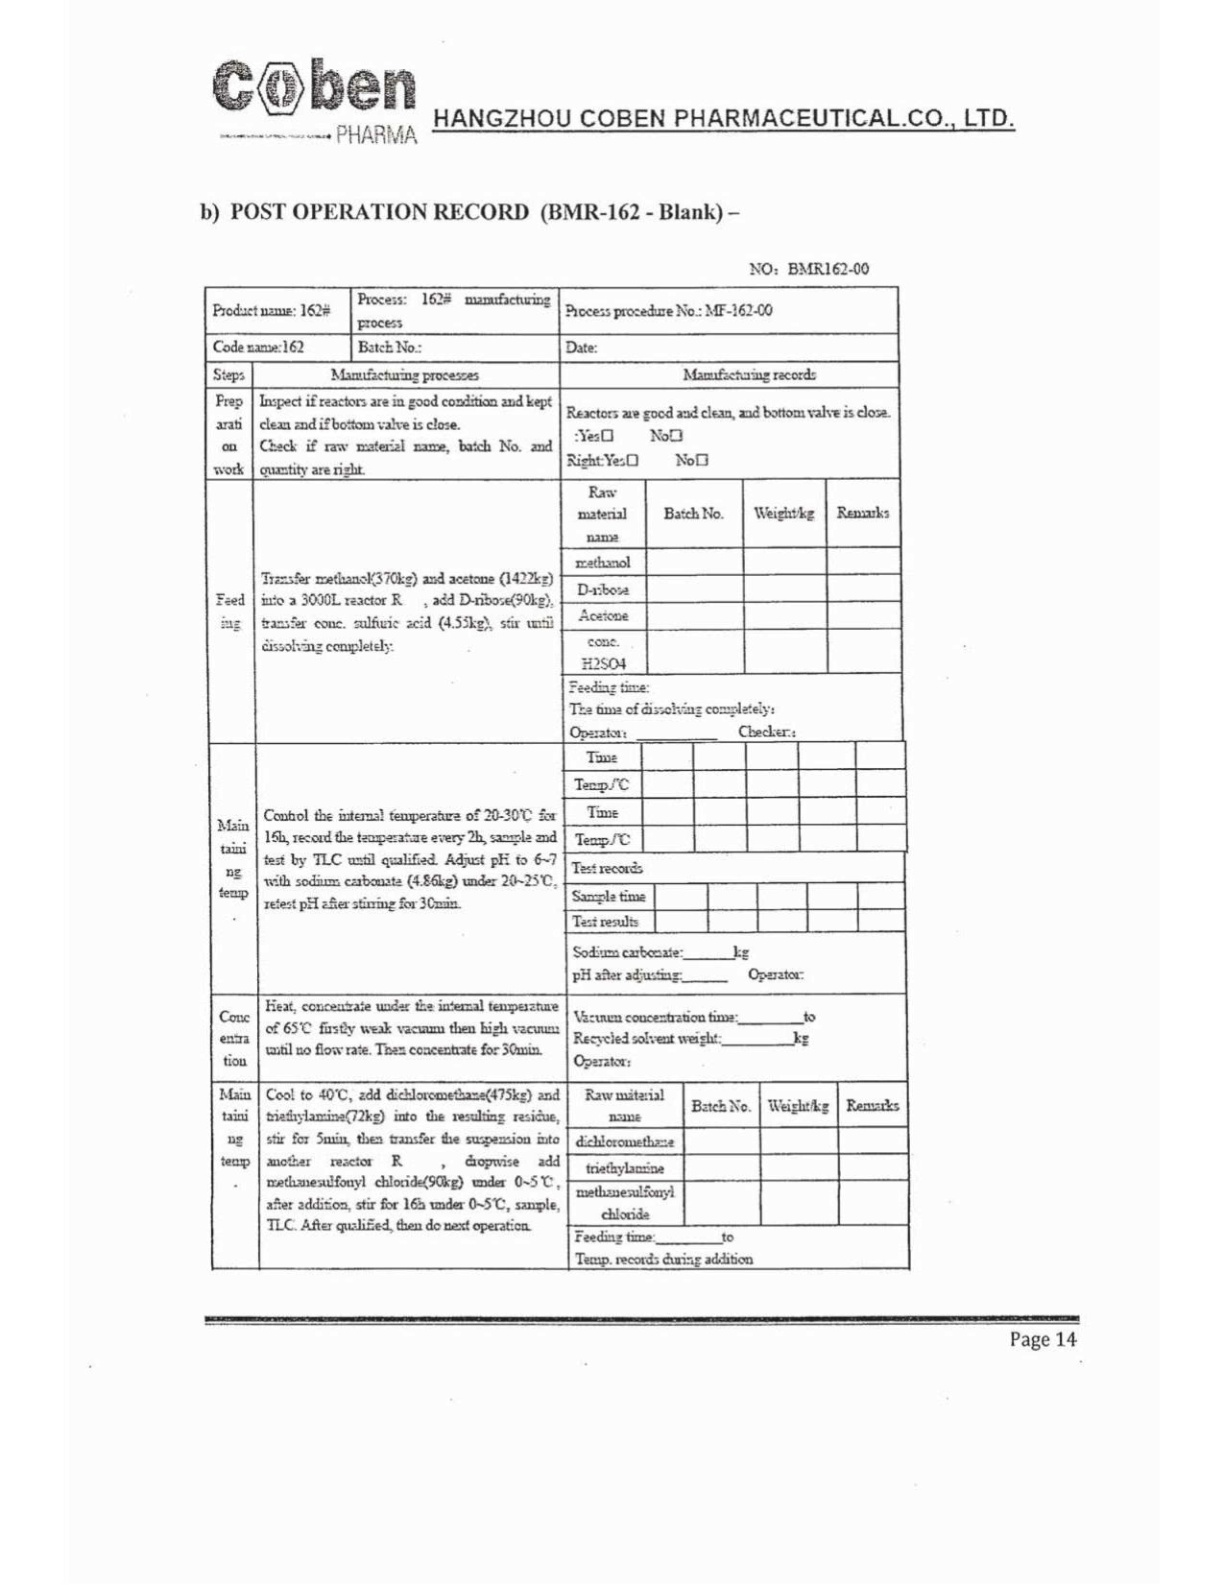merged_cells: (202, 285, 913, 1273)
